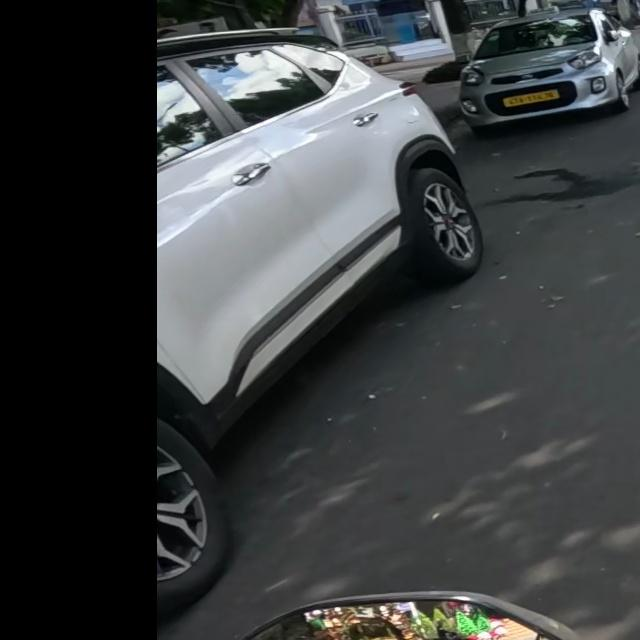license-plate: (502, 89, 560, 109)
